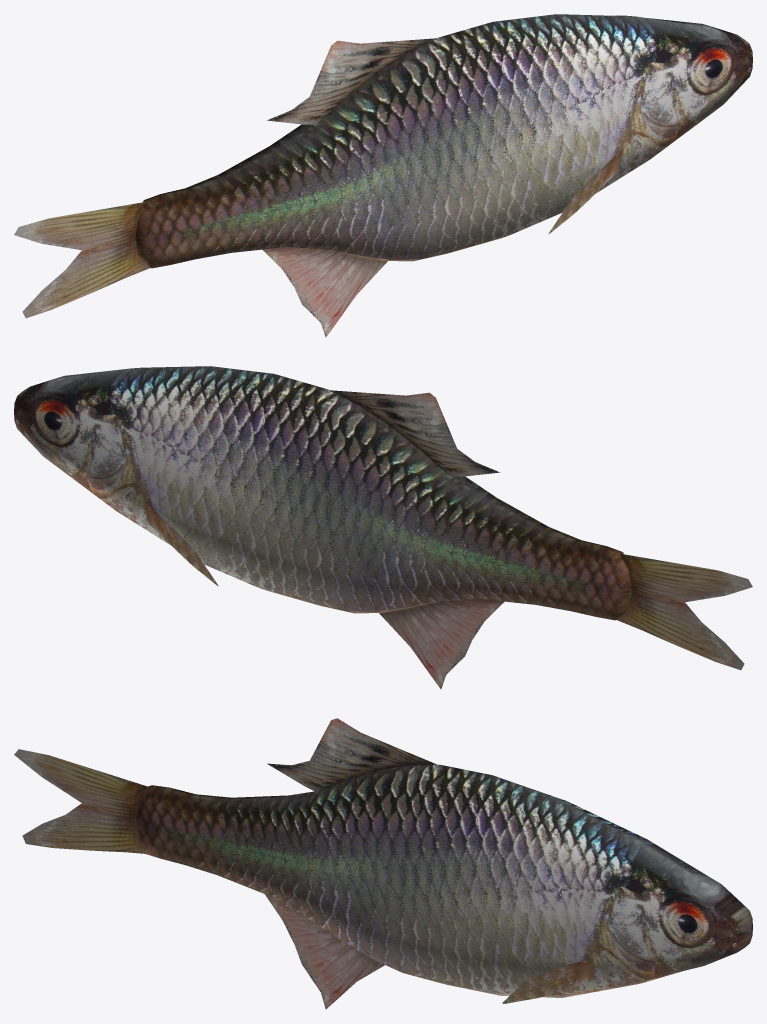
File: EuropeanBitterling.glb
The picture shows the model from 3 angles, top to bottom: view 1: azimuth 30°, elevation 25°; view 2: azimuth 150°, elevation 25°; view 3: azimuth 330°, elevation 25°; orthographic projection.
Visible parts, largest first — view 1: EuropeanBitterling; view 2: EuropeanBitterling; view 3: EuropeanBitterling.
Part boxes in pixels (<box>): EuropeanBitterling: <box>14,14,752,337</box>; EuropeanBitterling: <box>14,366,752,689</box>; EuropeanBitterling: <box>14,718,752,1009</box>.
Bounding box in the file's own units: 2 × 0.7632 × 0.2172.
Materials: 1 (1 with a texture image).
